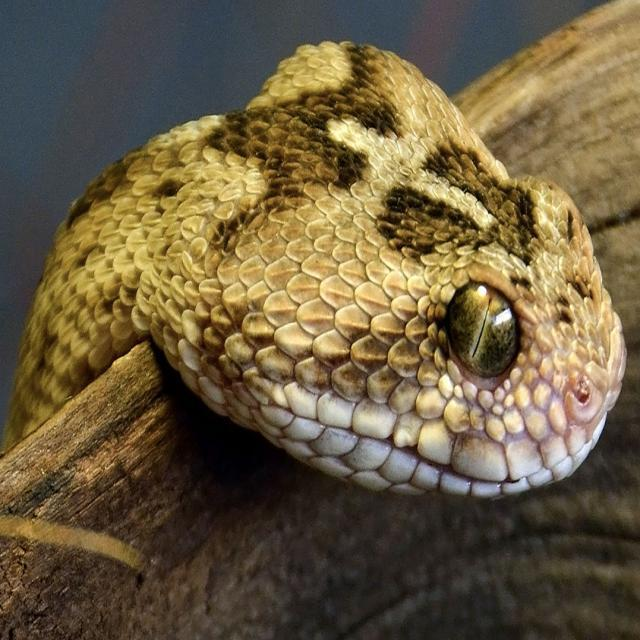Snake: (1, 36, 627, 504)
